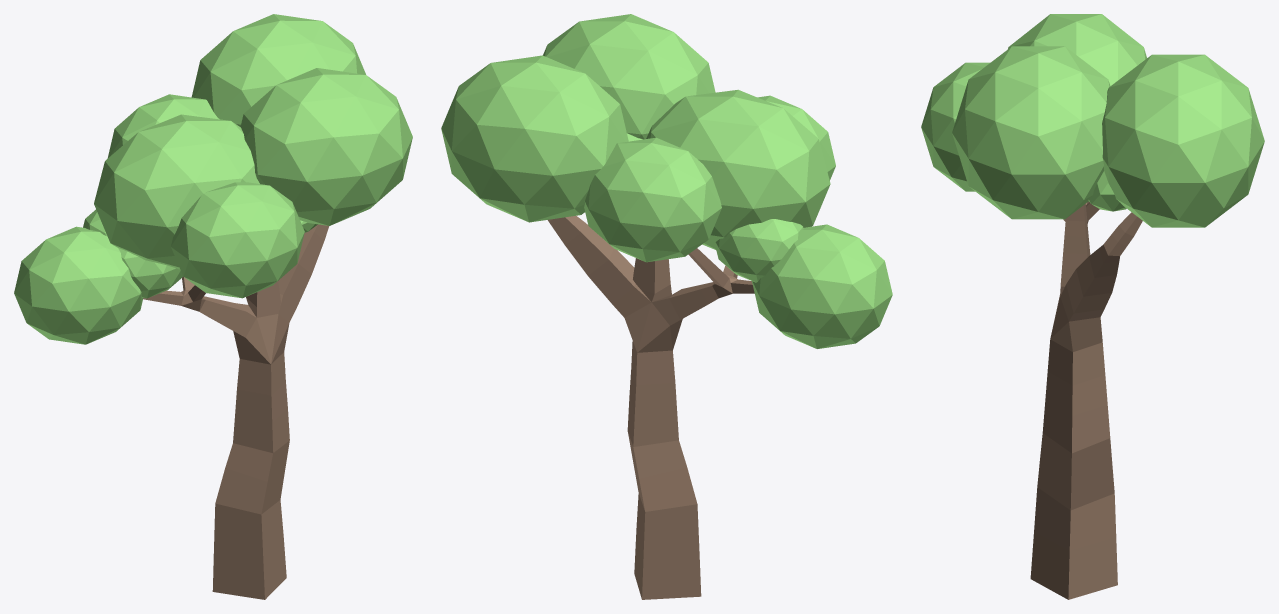
The model's file is tree 3.fbx.
3 views of the same model, side by side, from view 1: azimuth 30°, elevation 25°; view 2: azimuth 150°, elevation 25°; view 3: azimuth 270°, elevation 25° (orthographic). The views are drawn at different scales.
Visible parts, largest first — view 1: Tree; view 2: Tree; view 3: Tree.
Boxes of the visible parts, x1=… form: Tree: x1=14, y1=14, x2=412, y2=599; Tree: x1=441, y1=14, x2=892, y2=599; Tree: x1=921, y1=14, x2=1264, y2=599.
Bounding box in the file's own units: 689 × 908 × 503.
